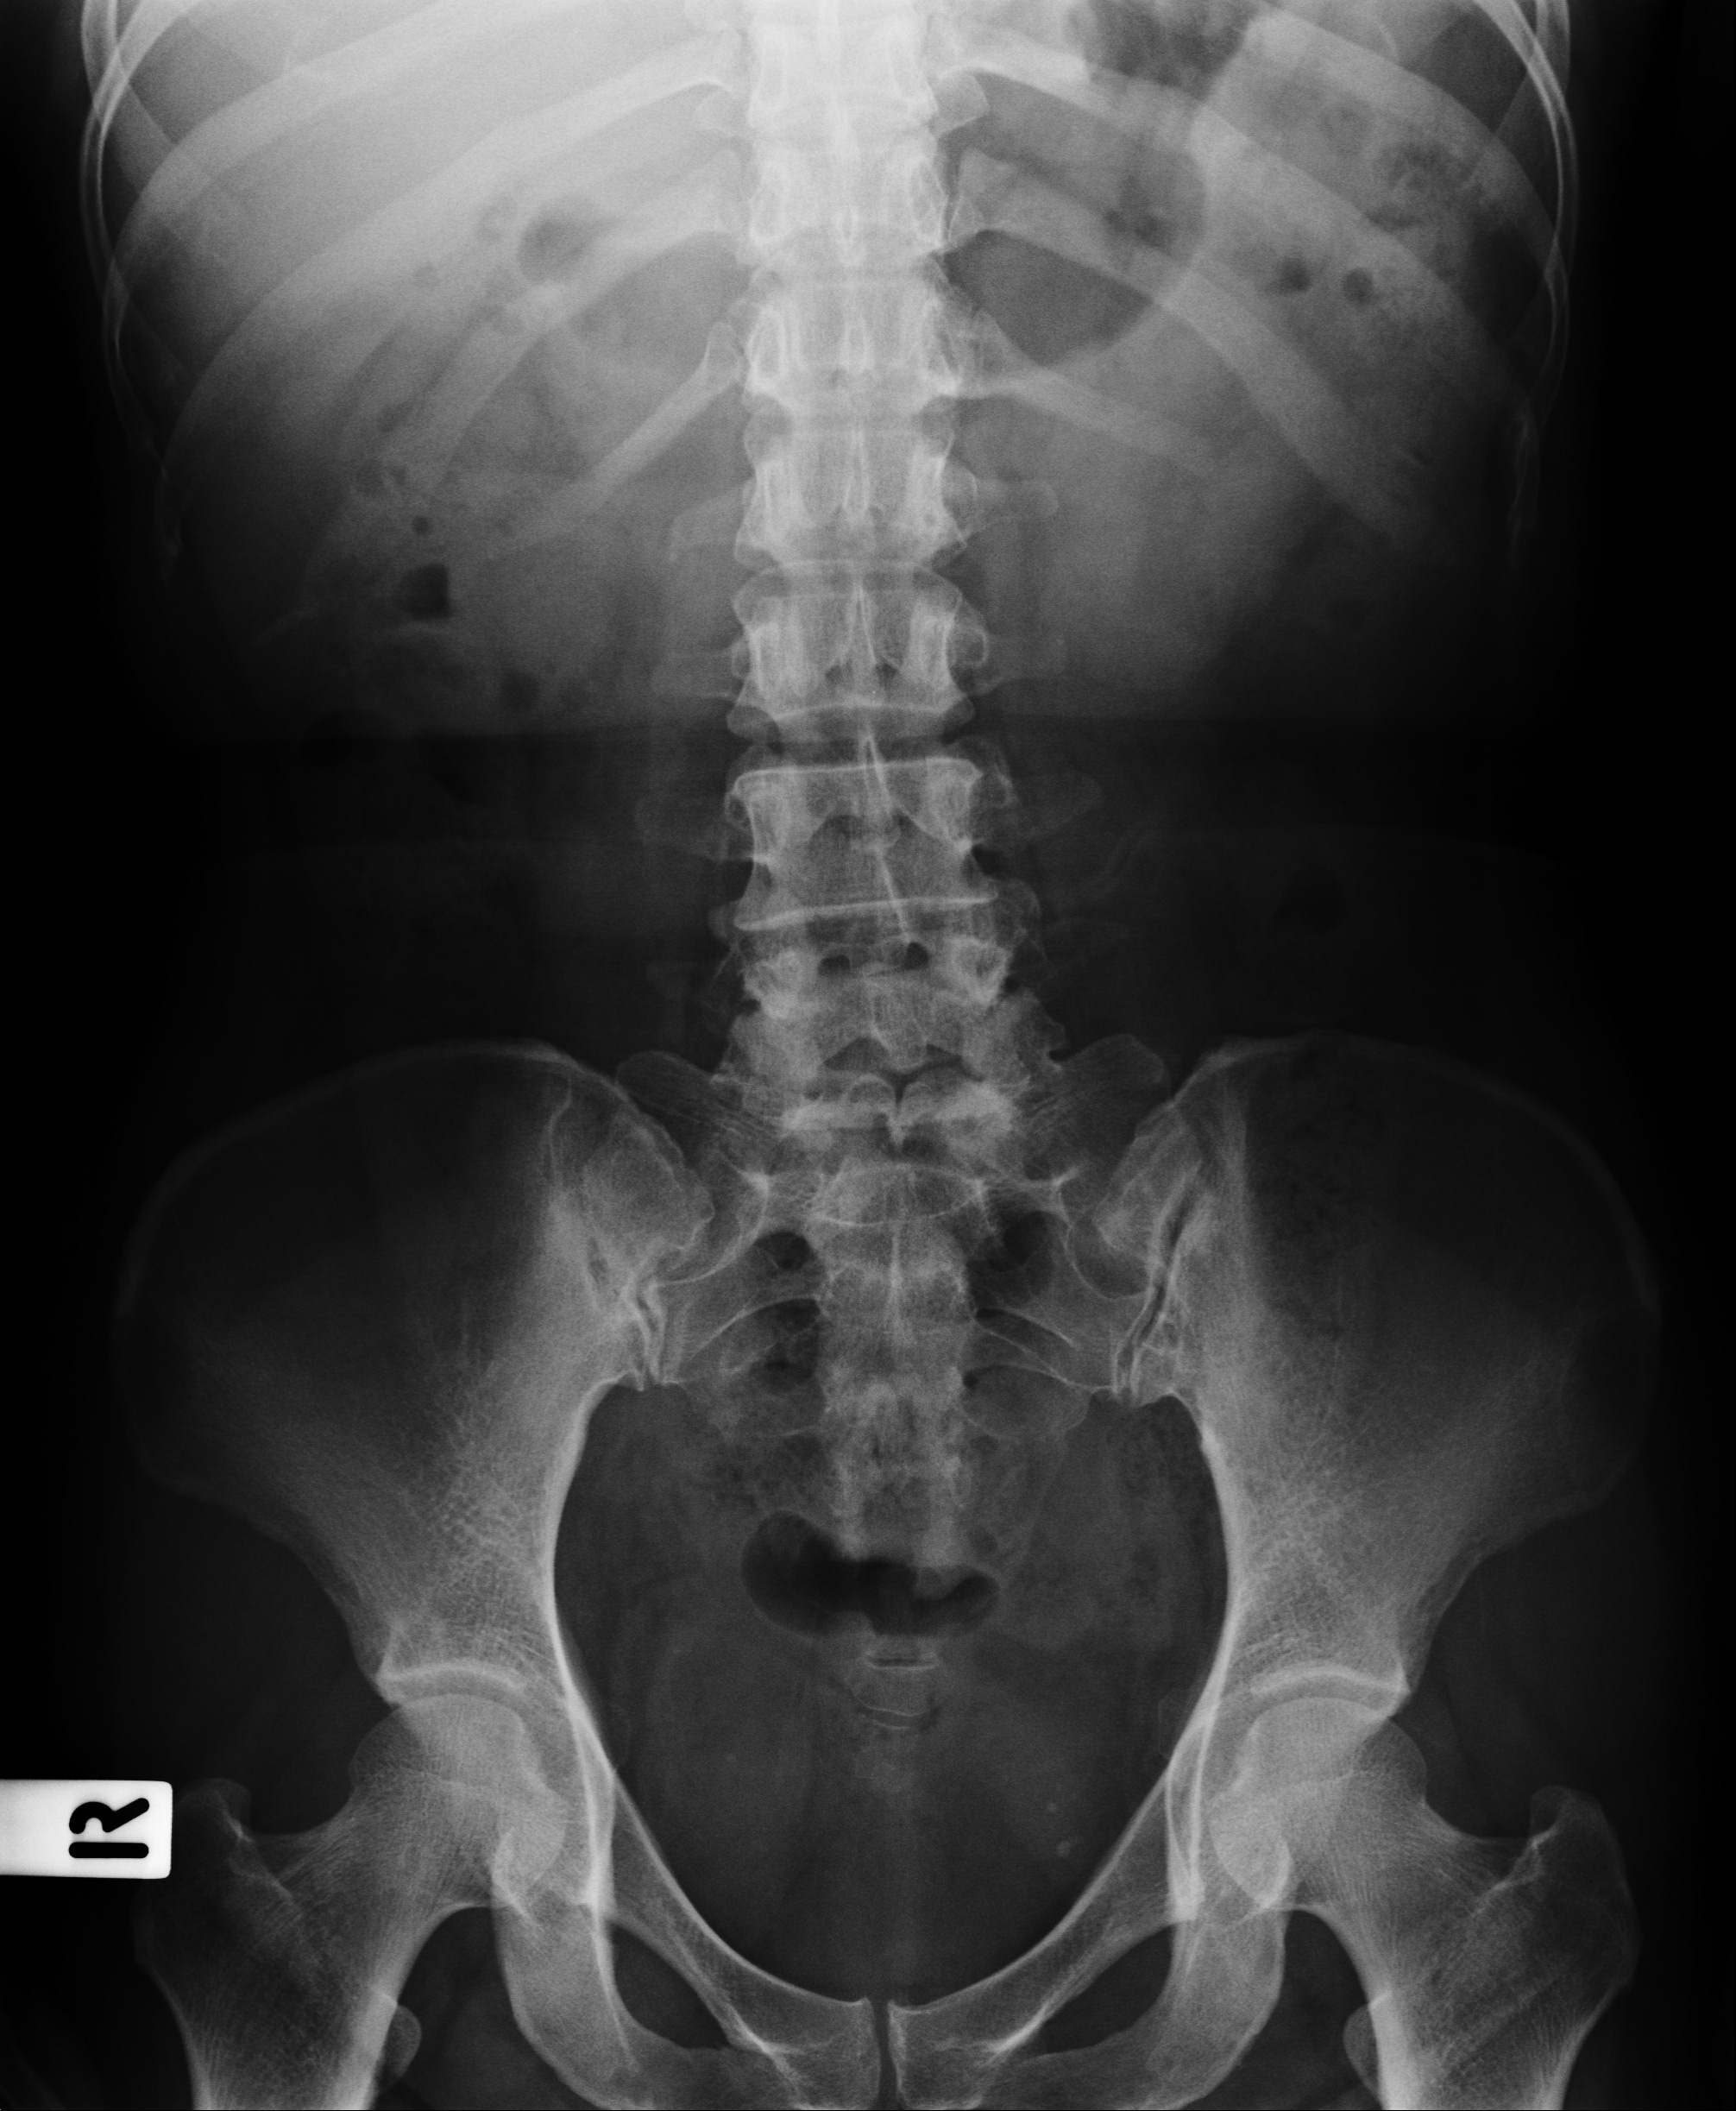lumbar scoliosis: (726, 42, 1028, 1250)
